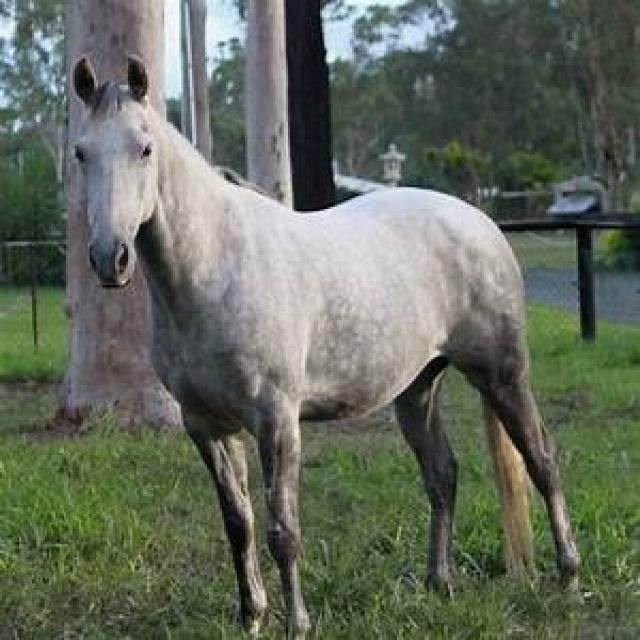horse: (64, 57, 582, 640)
